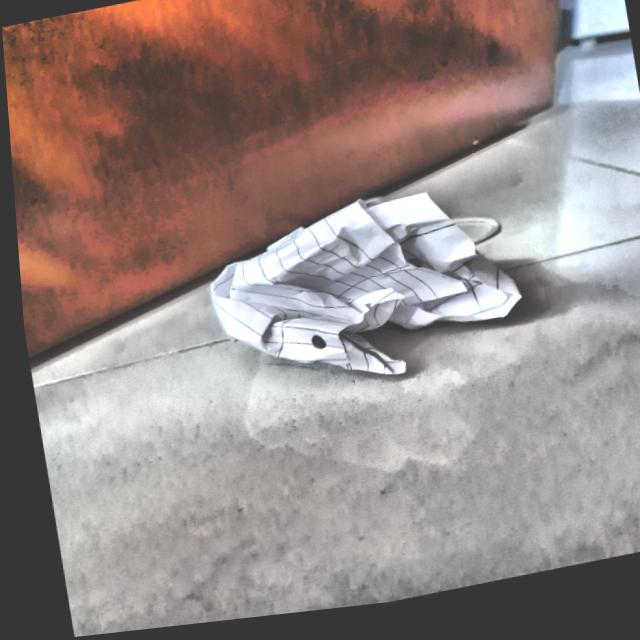Paper: (190, 178, 525, 415)
